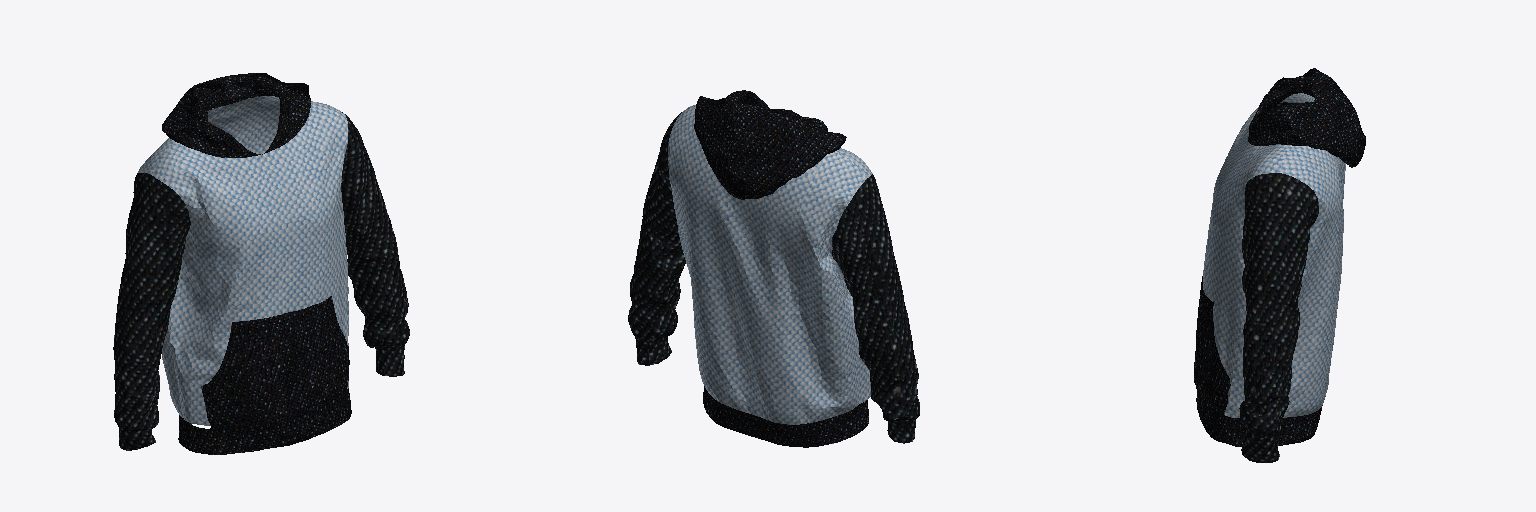
3 renders of one model, left to right at view 1: azimuth 30°, elevation 25°; view 2: azimuth 150°, elevation 25°; view 3: azimuth 270°, elevation 25°, orthographic.
Visible parts, largest first — view 1: M; view 2: M; view 3: M.
Boxes of the visible parts, x1,y1,x2,y2 form: M: [113, 73, 409, 454]; M: [628, 90, 919, 447]; M: [1194, 68, 1365, 462].
Size of the model in its own units: 0.6257 by 0.6988 by 0.3245.
3 materials, 3 textured.